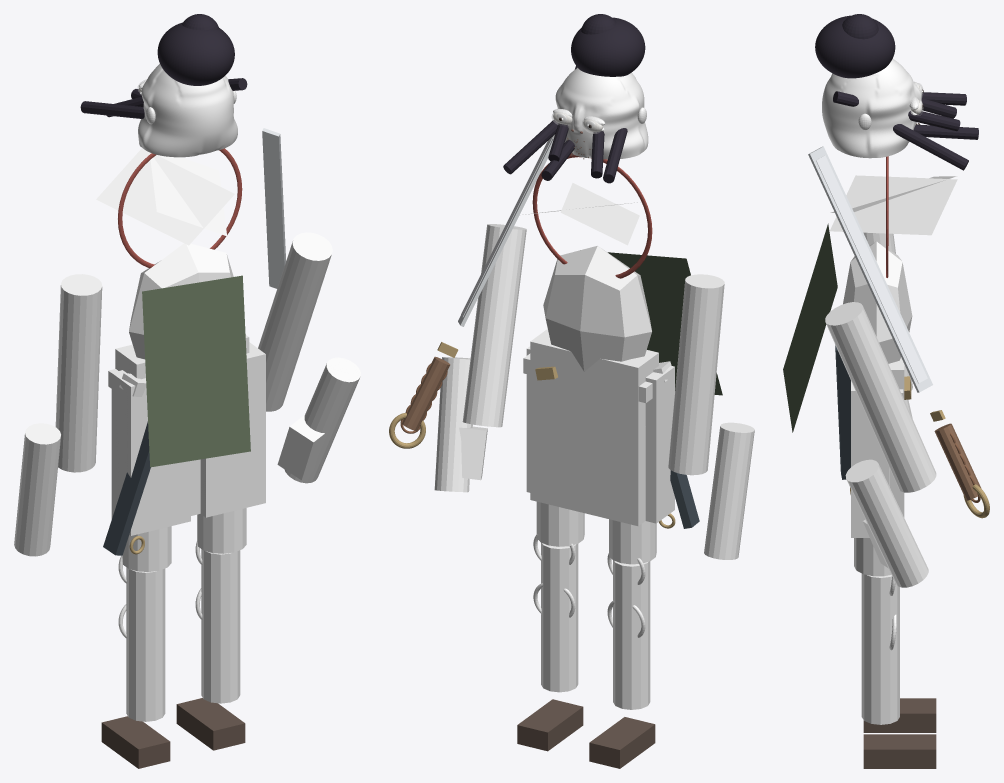
Rendered from ronin_character_v0.5.glb.
3 renders of one model, left to right at view 1: azimuth 30°, elevation 25°; view 2: azimuth 150°, elevation 25°; view 3: azimuth 270°, elevation 25°, orthographic. The views are drawn at different scales.
Visible parts, largest first — view 1: Cloth_Cloak_0, Cloth_SleeveUpper_L, Skin_Head, Cloth_Hem_1, Cloth_SleeveUpper_R, Cloth_TrouserShin_L, Cloth_TrouserShin_R, Cloth_Hem_2, Cloth_Lapel_L, Cloth_SleeveFore_L, Hair_Bun, Cloth_ShortTunic (+12 smaller); view 2: Cloth_Hem_0, Cloth_ShortTunic, Cloth_SleeveUpper_L, Cloth_SleeveUpper_R, Skin_Head, Cloth_TrouserShin_R, Cloth_TrouserShin_L, Cloth_SleeveFore_L, Cloth_Cloak_0, Cloth_Hem_1, Cloth_SleeveFore_R, Hair_Bun (+14 smaller); view 3: Cloth_SleeveUpper_R, Skin_Head, Cloth_TrouserShin_R, Cloth_Lapel_R, Cloth_SleeveFore_R, Cloth_Cloak_0, Hair_Bun, Cloth_ShortTunic, Metal_DaoEdge, Cloth_Shoe_R, Metal_DaoBlade, Cloth_Hem_2 (+13 smaller).
Part boxes in pixels (bbox=[...]): Cloth_Cloak_0: bbox=[142, 275, 250, 467]; Cloth_SleeveUpper_L: bbox=[55, 274, 102, 472]; Skin_Head: bbox=[138, 64, 237, 157]; Cloth_Hem_1: bbox=[111, 370, 190, 535]; Cloth_SleeveUpper_R: bbox=[258, 232, 332, 411]; Cloth_TrouserShin_L: bbox=[126, 567, 165, 721]; Cloth_TrouserShin_R: bbox=[201, 549, 240, 703]; Cloth_Hem_2: bbox=[200, 342, 265, 517]; Cloth_Lapel_L: bbox=[96, 148, 234, 245]; Cloth_SleeveFore_L: bbox=[14, 423, 60, 556]; Hair_Bun: bbox=[157, 22, 234, 85]; Cloth_ShortTunic: bbox=[129, 243, 233, 359]; Cloth_Hem_0: bbox=[530, 329, 658, 526]; Cloth_ShortTunic: bbox=[543, 245, 651, 371]; Cloth_SleeveUpper_L: bbox=[668, 274, 724, 475]; Cloth_SleeveUpper_R: bbox=[462, 224, 526, 427]; Skin_Head: bbox=[553, 67, 648, 159]; Cloth_TrouserShin_R: bbox=[541, 542, 578, 692]; Cloth_TrouserShin_L: bbox=[613, 560, 650, 709]; Cloth_SleeveFore_L: bbox=[704, 422, 754, 559]; Cloth_Cloak_0: bbox=[608, 252, 722, 395]; Cloth_Hem_1: bbox=[645, 363, 674, 523]; Cloth_SleeveFore_R: bbox=[434, 357, 472, 492]; Hair_Bun: bbox=[571, 17, 645, 76]; Cloth_SleeveUpper_R: bbox=[825, 302, 936, 492]; Skin_Head: bbox=[822, 59, 921, 158]; Cloth_TrouserShin_R: bbox=[861, 573, 899, 724]; Cloth_Lapel_R: bbox=[830, 175, 957, 235]; Cloth_SleeveFore_R: bbox=[845, 459, 928, 587]; Cloth_Cloak_0: bbox=[783, 223, 837, 432]; Hair_Bun: bbox=[815, 15, 895, 78]; Cloth_ShortTunic: bbox=[843, 241, 912, 363]; Metal_DaoEdge: bbox=[816, 155, 927, 383]; Cloth_Shoe_R: bbox=[863, 734, 936, 768]; Metal_DaoBlade: bbox=[808, 146, 932, 392]; Cloth_Hem_2: bbox=[851, 381, 889, 537].
Size of the model in its own units: 0.8704 by 1.89 by 0.4851.
